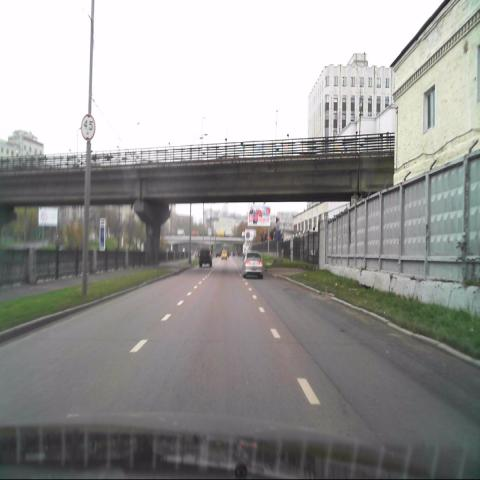3_13: (80, 113, 96, 141)
